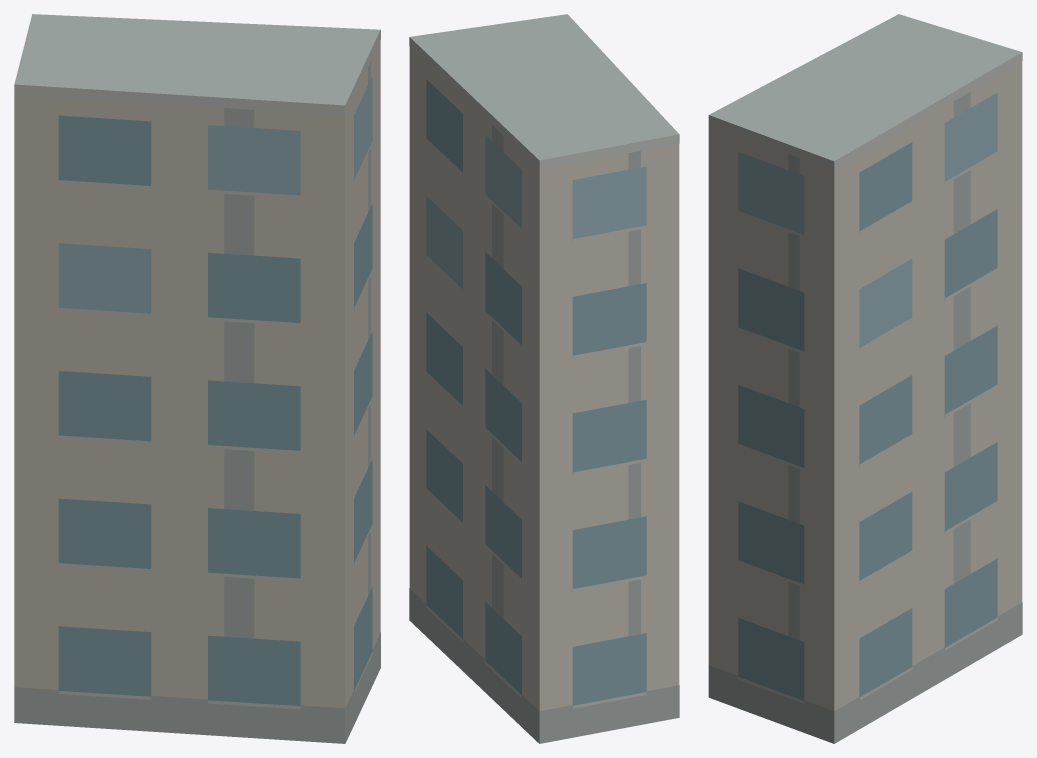
The model's file is survey-upis-32506185.glb.
The picture shows the model from 3 angles, left to right: view 1: azimuth 30°, elevation 25°; view 2: azimuth 150°, elevation 25°; view 3: azimuth 270°, elevation 25°; orthographic projection. The views are drawn at different scales.
Visible parts, largest first — view 1: survey-upis-32506185.tmp; view 2: survey-upis-32506185.tmp; view 3: survey-upis-32506185.tmp.
Boxes of the visible parts, x1,y1,x2,y2 form: survey-upis-32506185.tmp: [14, 14, 380, 743]; survey-upis-32506185.tmp: [409, 14, 679, 743]; survey-upis-32506185.tmp: [708, 14, 1022, 743].
Bounding box in the file's own units: 8.28 × 15.25 × 7.45.
